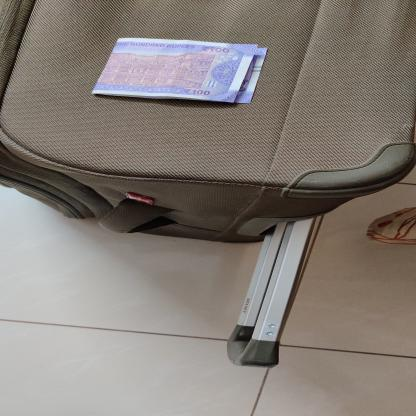New100Back: (89, 35, 270, 105)
